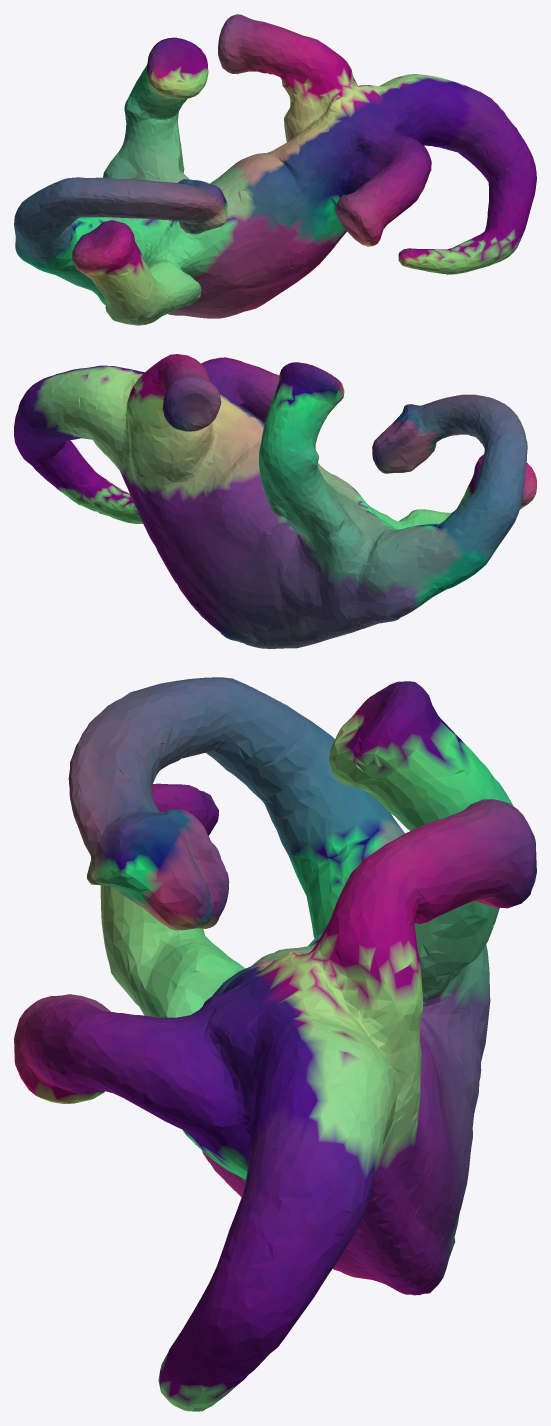
Rendered from dinosaur-4.off.obj.
3 views of the same model, one above another, from view 1: azimuth 30°, elevation 25°; view 2: azimuth 150°, elevation 25°; view 3: azimuth 270°, elevation 25° (orthographic). The views are drawn at different scales.
Size of the model in its own units: 1.65 by 0.8929 by 0.7782.
